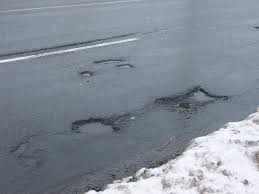pothole: (146, 77, 244, 117), (70, 50, 148, 86), (64, 111, 135, 146)
